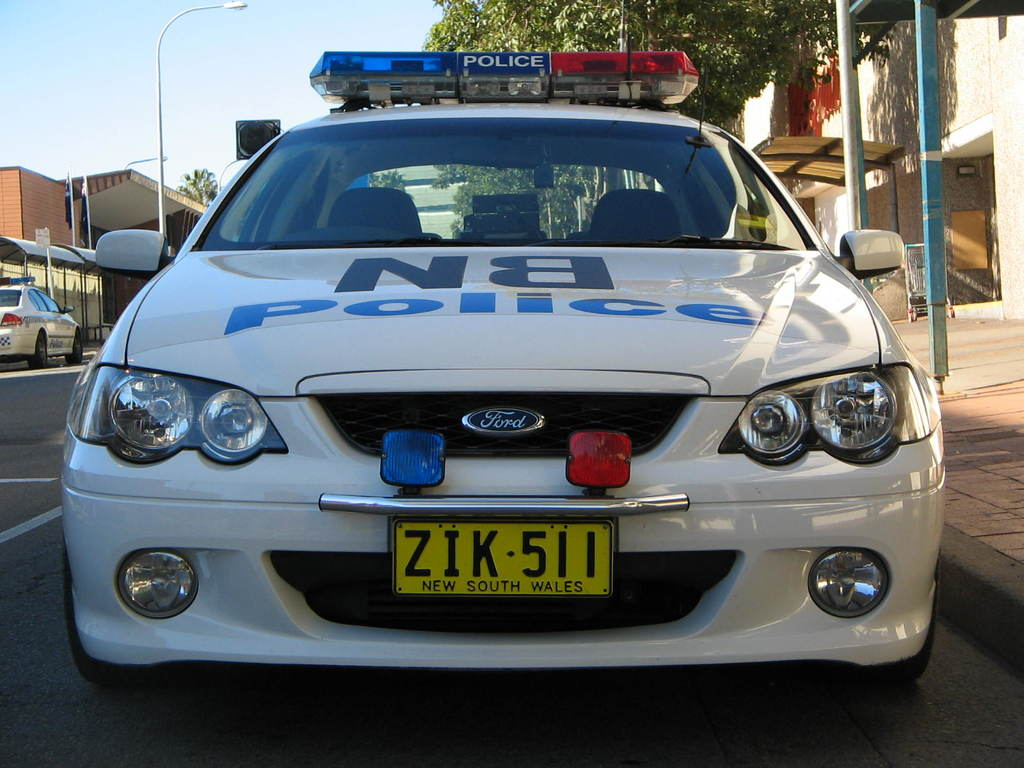mobil: (56, 76, 960, 710)
